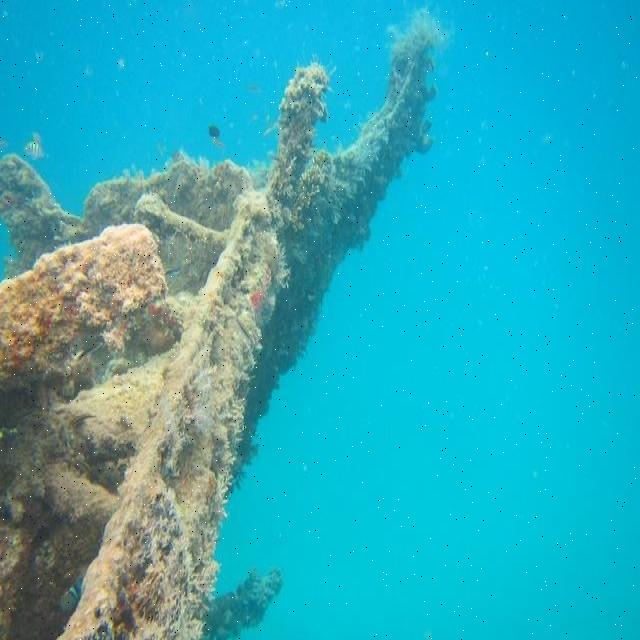reefs: (0, 15, 448, 639)
